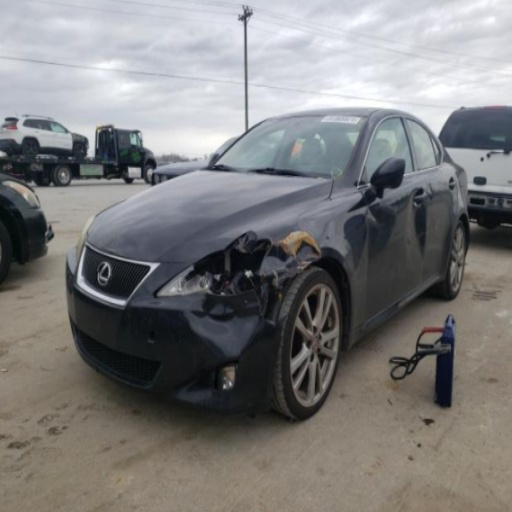dent: (182, 309, 259, 359), (406, 187, 427, 284), (261, 244, 291, 272), (318, 220, 336, 246), (210, 302, 235, 318), (427, 182, 433, 199)
rust: (306, 252, 319, 260), (299, 261, 310, 270)
